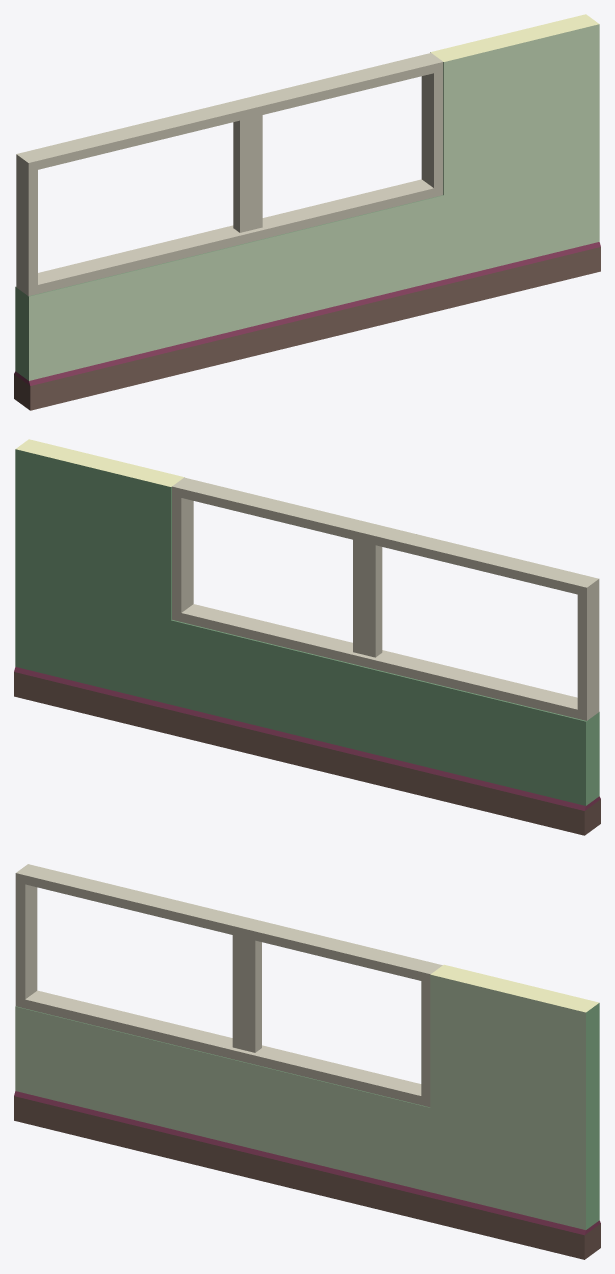
The model's file is Wall_02.fbx.
3 renders of one model, top to bottom at view 1: azimuth 30°, elevation 25°; view 2: azimuth 150°, elevation 25°; view 3: azimuth 330°, elevation 25°, orthographic.
Visible parts, largest first — view 1: Wall_02; view 2: Wall_02; view 3: Wall_02.
Boxes of the visible parts, bbox=[...] form: Wall_02: bbox=[14, 14, 600, 410]; Wall_02: bbox=[14, 439, 600, 835]; Wall_02: bbox=[14, 864, 600, 1259].
Size of the model in its own units: 286 by 118 by 14.18.
